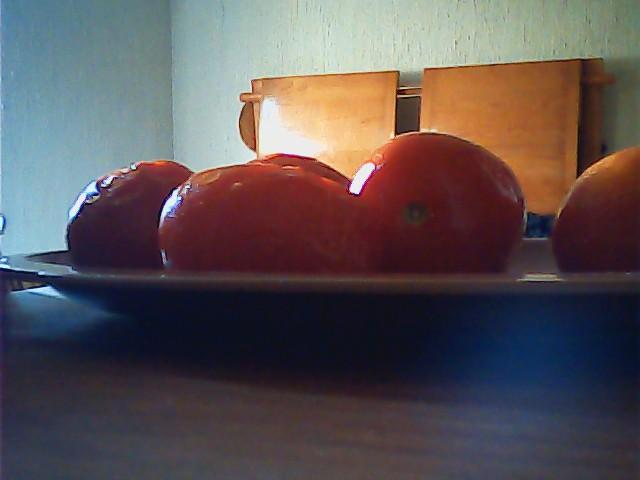maduro: (343, 132, 530, 268), (161, 164, 367, 272), (61, 158, 202, 265), (549, 143, 640, 274)
